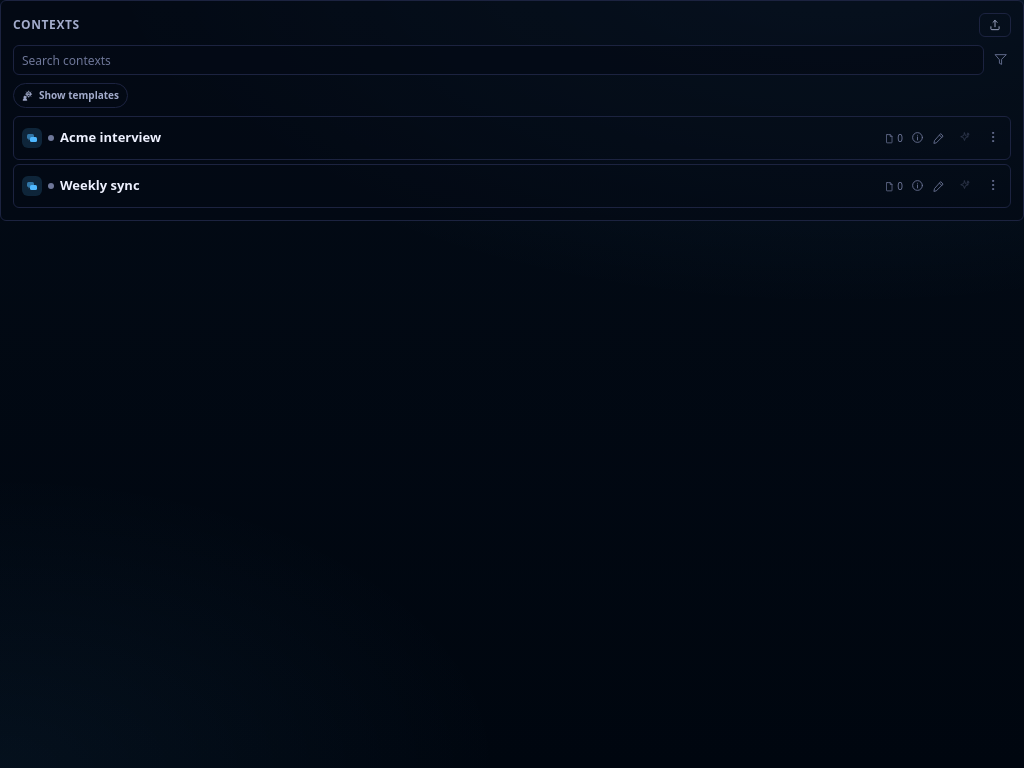
ContextsPane › the search box filters rows by title
Expected: the text "Acme interview" is shown, [60,128,161,146]
Expected: the text "Weekly sync" is shown, [60,176,140,194]
In the field labelled "Search contexts": x=498, y=60 [13,45,984,75], type "weekly"
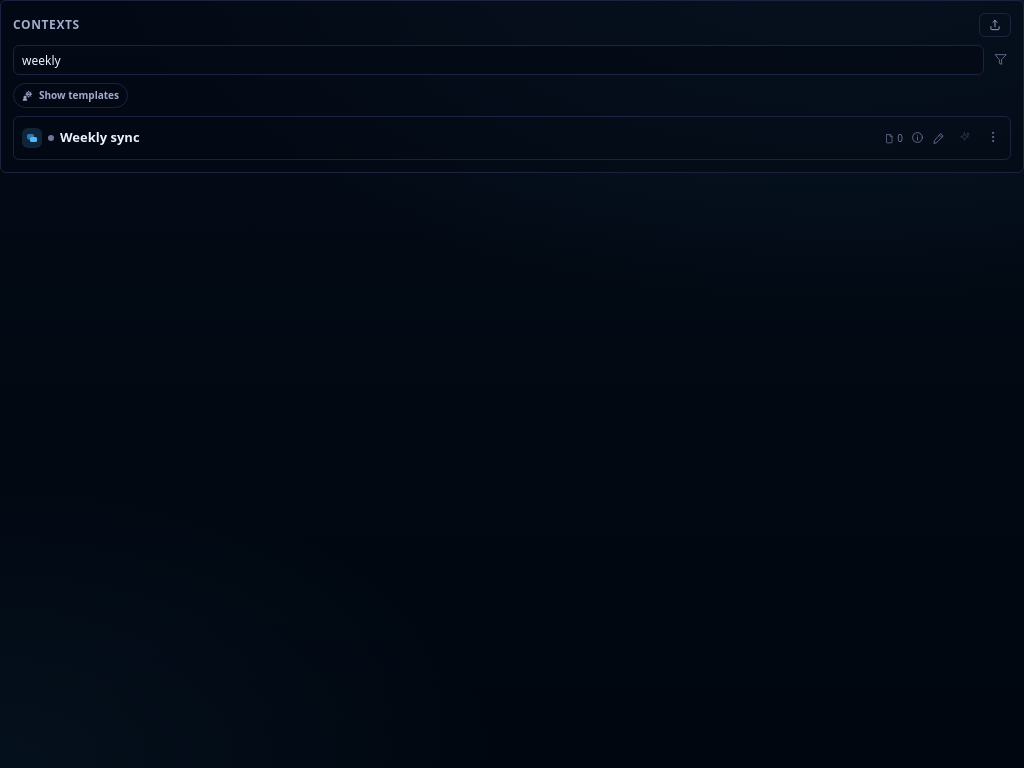
Expected: the text "Weekly sync" is shown, [60,128,140,146]
Now the button "Acme interview" is gone
